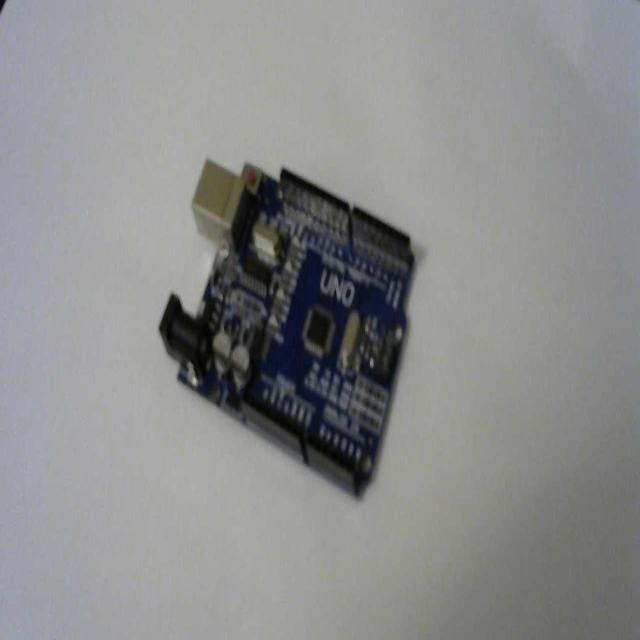arduino: (155, 154, 420, 504)
